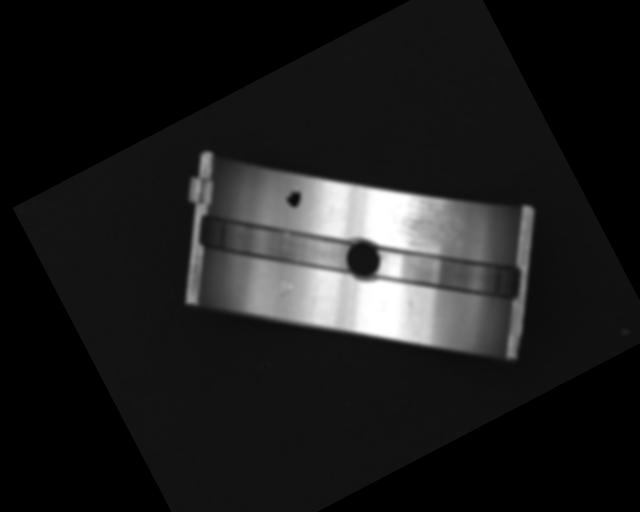blot: (282, 185, 307, 210)
bruise: (272, 277, 295, 299)
gap: (196, 166, 357, 319), (376, 204, 531, 348)
hole: (337, 233, 389, 286)
nick: (393, 282, 426, 328), (299, 282, 330, 314)
scratch: (377, 174, 471, 265)
